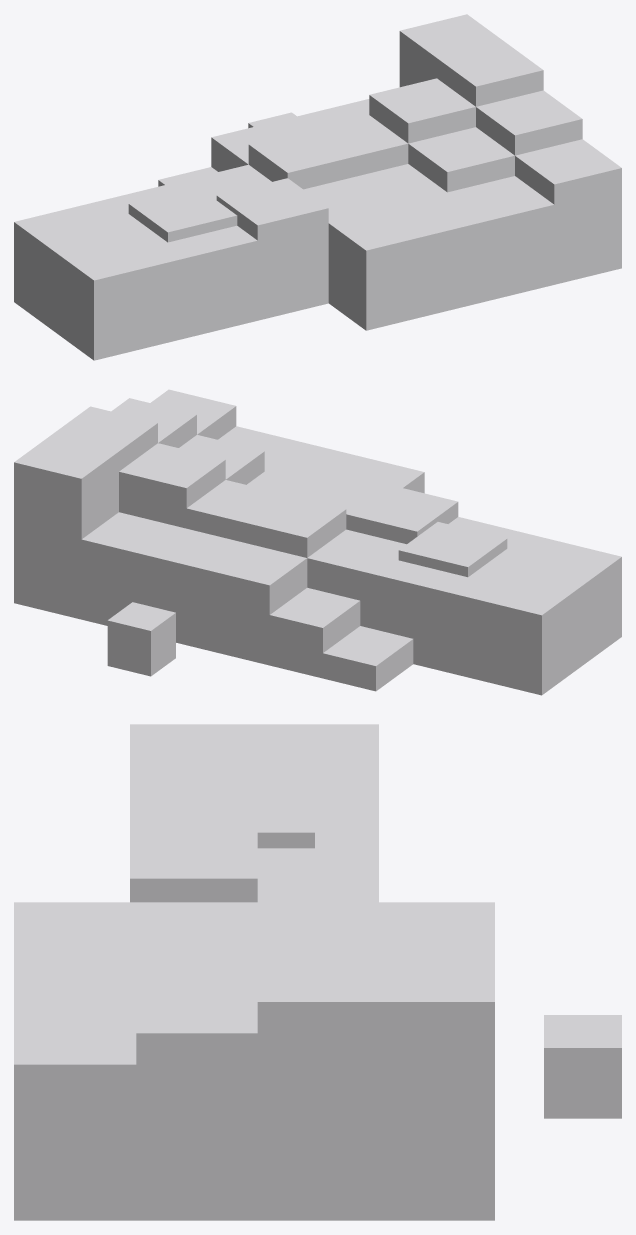
Rendered from table_metal_7-opt-v5.glb.
The picture shows the model from 3 angles, top to bottom: view 1: azimuth 30°, elevation 25°; view 2: azimuth 150°, elevation 25°; view 3: azimuth 270°, elevation 25°; orthographic projection. The views are drawn at different scales.
Parts seen in each view (by area): view 1: Mesh_15.013; view 2: Mesh_15.013; view 3: Mesh_15.013.
Part boxes in pixels (x1,y1,x2,y2): Mesh_15.013: (14, 14, 621, 360); Mesh_15.013: (14, 389, 621, 695); Mesh_15.013: (14, 724, 621, 1220).
Size of the model in its own units: 5.08 by 1.39 by 3.51.
Materials: 1 (1 with a texture image).
